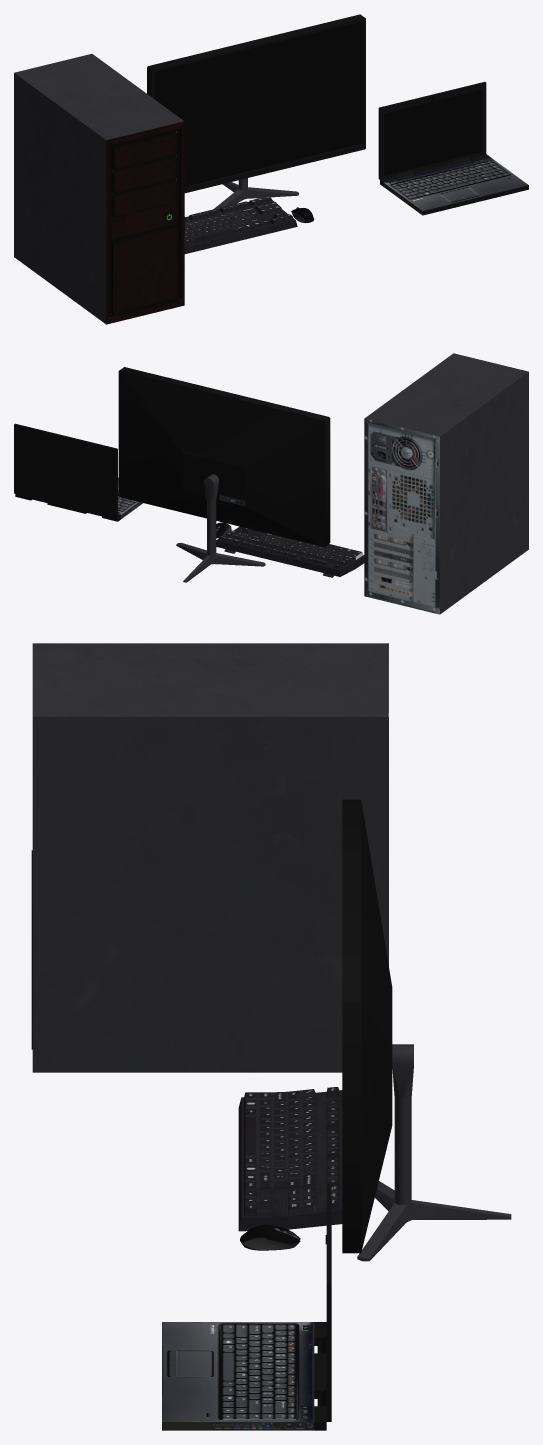
File: desktop_computer.glb
The picture shows the model from 3 angles, top to bottom: view 1: azimuth 30°, elevation 25°; view 2: azimuth 150°, elevation 25°; view 3: azimuth 270°, elevation 25°; orthographic projection. The views are drawn at different scales.
Visible parts, largest first — view 1: Object_2; view 2: Object_2; view 3: Object_2.
Boxes of the visible parts, box(x1,y1,x2,y2) form: Object_2: box(14, 14, 528, 324); Object_2: box(14, 353, 528, 614); Object_2: box(31, 643, 511, 1430).
Size of the model in its own units: 1.4 by 0.5418 by 0.6587.
1 material, 1 textured.
